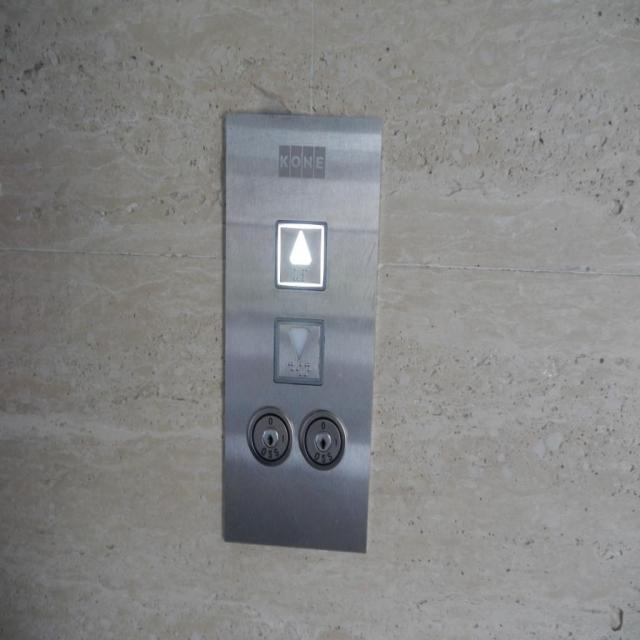down: (269, 315, 325, 390)
keyhole: (297, 406, 348, 468), (245, 406, 292, 466)
up: (273, 216, 328, 292)
